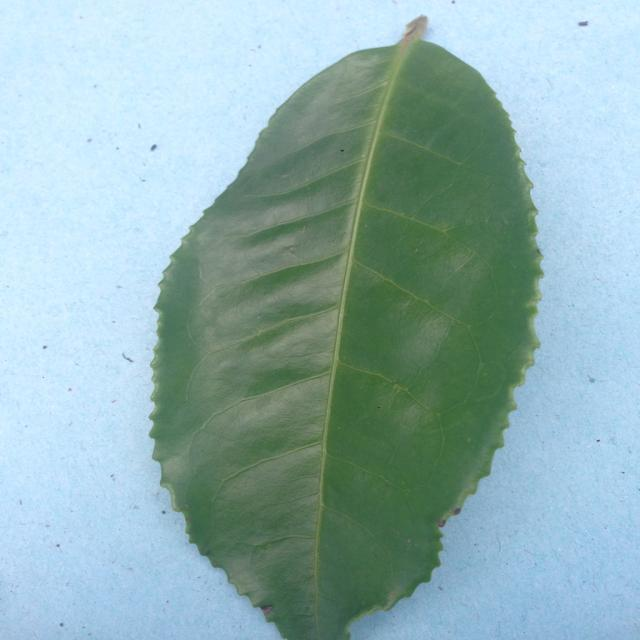Healthy: (112, 11, 549, 640)
